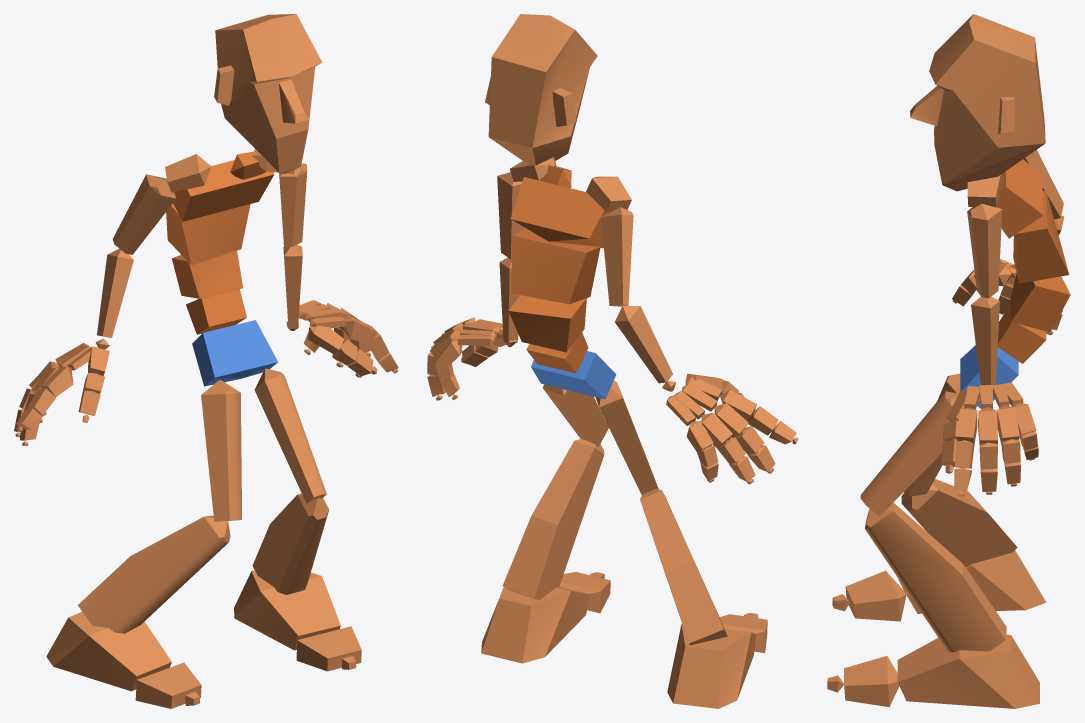
Rendered from personaje31.obj.
3 views of the same model, side by side, from view 1: azimuth 30°, elevation 25°; view 2: azimuth 150°, elevation 25°; view 3: azimuth 270°, elevation 25° (orthographic). The views are drawn at different scales.
Parts seen in each view (by area): view 1: BOPED_Head, BOPED_R_leg, BOPED_R_foot, BOPED_R_foot01, BOPED_L_leg, BOPED_R_legup, BOPED_L_legup, Bone01, Bone04, Bone05, BOPED_R_arm_upper, Bone03 (+11 smaller); view 2: BOPED_Head, BOPED_L_leg, BOPED_R_foot01, BOPED_R_foot, BOPED_R_leg, Bone04, Bone05, Bone03, BOPED_R_arm_upper, BOPED_R_legup, Bone01, BOPED_R_arm_fore (+11 smaller); view 3: BOPED_Head, BOPED_L_leg, BOPED_R_foot01, BOPED_R_leg, BOPED_L_legup, BOPED_R_foot, Bone04, Bone05, BOPED_L_arm_upper, Bone03, BOPED_R_foot_toe01, BOPED_R_foot_toe04 (+13 smaller).
Part boxes in pixels (x1,y1,x2,y2): BOPED_Head: (214, 14, 322, 173); BOPED_R_leg: (78, 515, 230, 633); BOPED_R_foot: (46, 612, 171, 691); BOPED_R_foot01: (234, 570, 340, 650); BOPED_L_leg: (252, 493, 329, 594); BOPED_R_legup: (201, 380, 241, 521); BOPED_L_legup: (254, 368, 326, 503); Bone01: (192, 320, 277, 386); Bone04: (166, 203, 250, 265); Bone05: (173, 160, 274, 221); BOPED_R_arm_upper: (113, 174, 176, 254); Bone03: (172, 250, 242, 298); BOPED_Head: (485, 14, 597, 165); BOPED_L_leg: (502, 439, 604, 600); BOPED_R_foot01: (481, 587, 589, 663); BOPED_R_foot: (667, 624, 755, 708); BOPED_R_leg: (640, 489, 727, 645); Bone04: (511, 229, 600, 304); Bone05: (510, 177, 610, 248); Bone03: (508, 295, 586, 352); BOPED_R_arm_upper: (601, 207, 633, 306); BOPED_R_legup: (595, 380, 658, 495); Bone01: (531, 351, 616, 399); BOPED_R_arm_fore: (615, 305, 672, 383); BOPED_Head: (910, 14, 1045, 191); BOPED_L_leg: (865, 503, 1006, 652); BOPED_R_foot01: (897, 634, 1039, 708); BOPED_R_leg: (901, 479, 1017, 566); BOPED_L_legup: (860, 391, 958, 515); BOPED_R_foot: (898, 550, 1046, 613); Bone04: (1013, 190, 1069, 283); Bone05: (996, 159, 1043, 238); BOPED_L_arm_upper: (967, 203, 1002, 298); Bone03: (1010, 273, 1070, 332); BOPED_R_foot_toe01: (845, 570, 906, 621); BOPED_R_foot_toe04: (844, 656, 899, 707).
Bounding box in the file's own units: 108 × 170 × 56.5.
